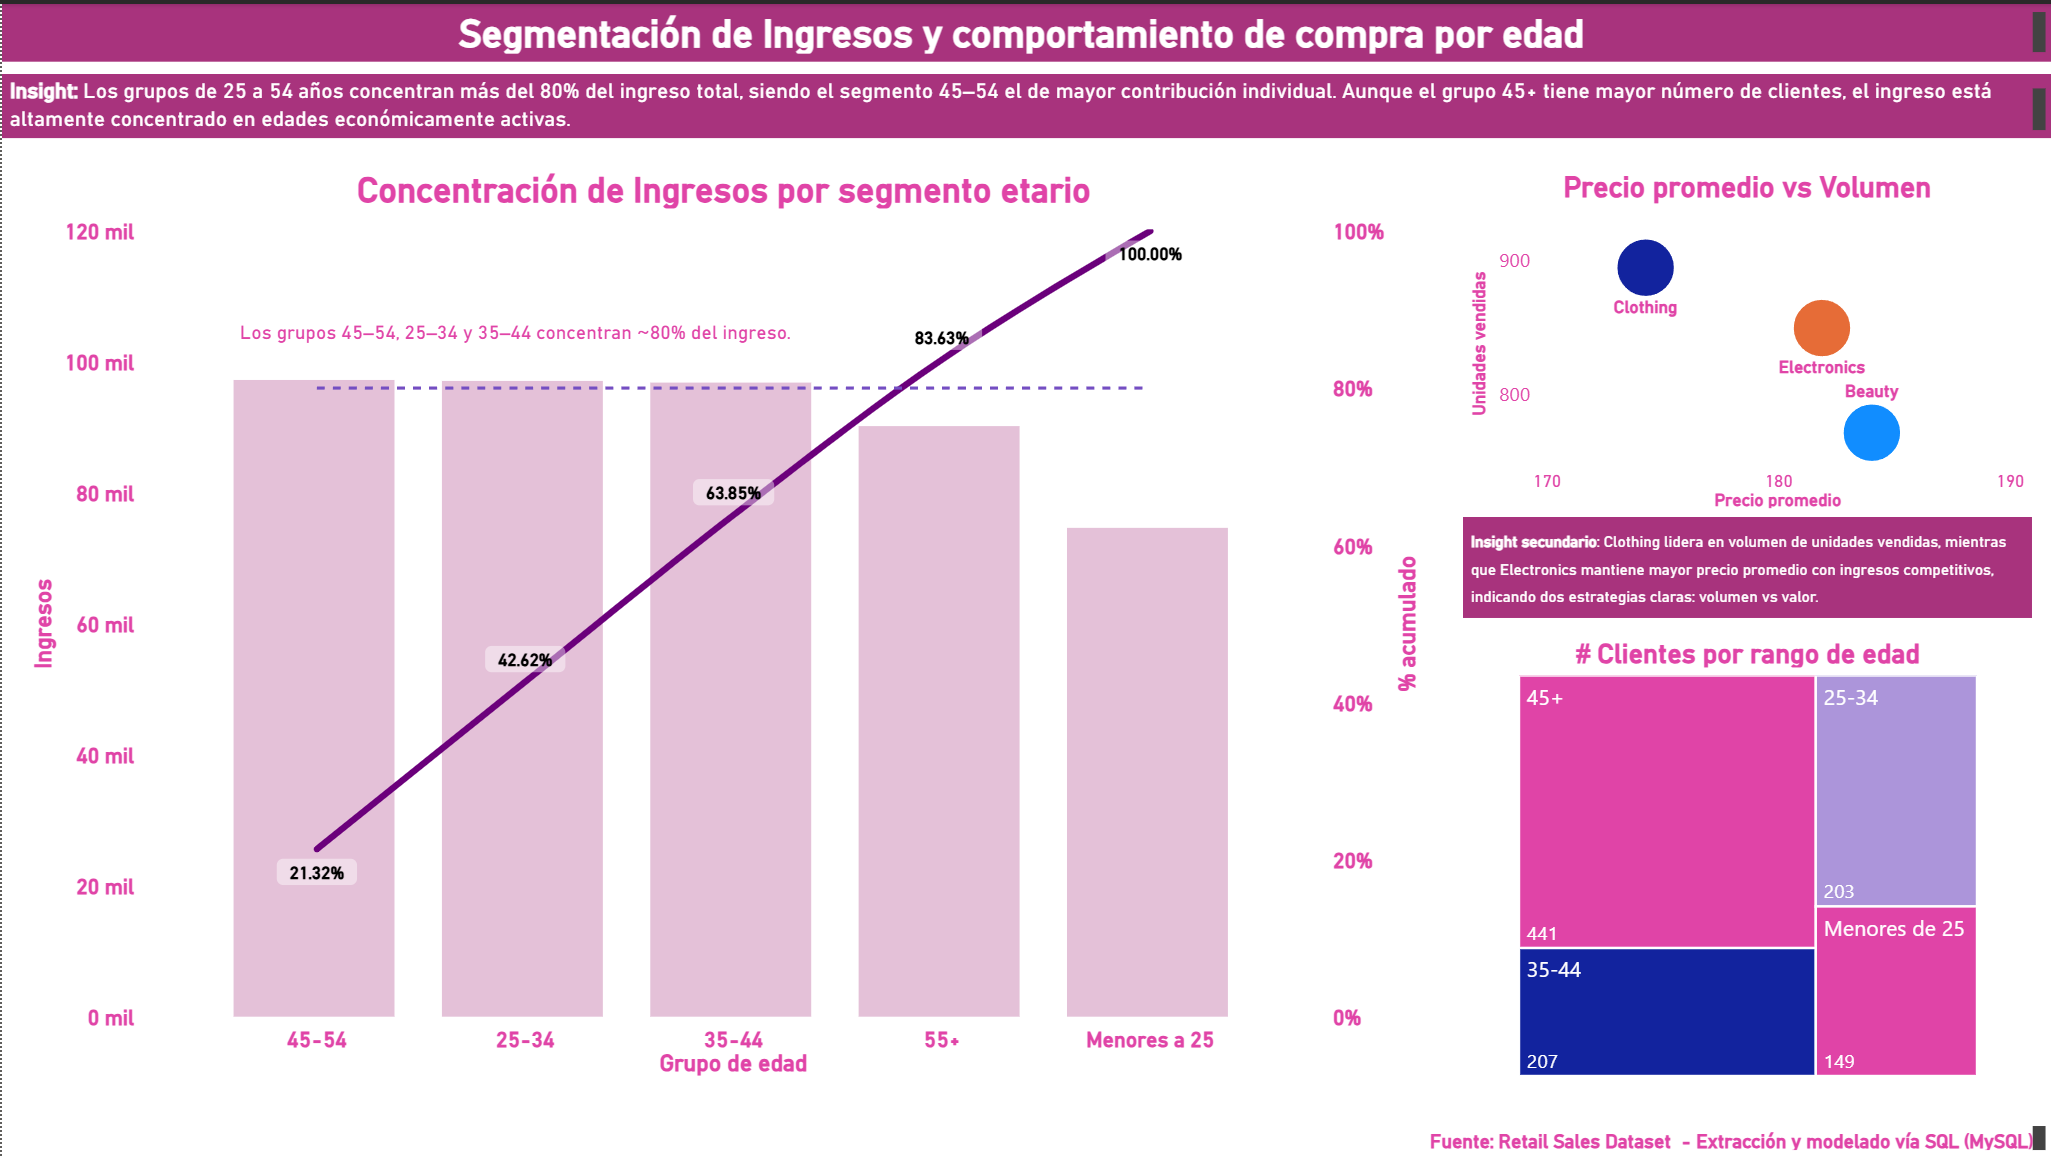

Layout of this report page (visuals, bound fields, positions):
{"tool":"powerbi","page":{"name":"Segmentación de Ingresos","canvas":[1280,720],"ordinal":1},"visuals":[{"type":"lineClusteredColumnComboChart","title":"Concentración de Ingresos por segmento etario","fields":{"Category":["Pareto edad.age_group"],"Y2":["Sum(Pareto edad.cum_pct)","select"],"Y":["Sum(Pareto edad.revenue)"]},"box":[12.5,103.6,876,570.3],"z":0},{"type":"textbox","box":[143.5,190.3,360,28.7],"z":1000},{"type":"treemap","title":"# Clientes por rango de edad","fields":{"Group":["retail_sales cohortes_edad.age_group"],"Values":["Sum(retail_sales cohortes_edad.customers)"]},"box":[941.5,394.9,295.7,278.9],"z":2000},{"type":"scatterChart","title":"Precio promedio vs Volumen","fields":{"X":["Sum(retail_sales promediovsvolumen.avg_price)"],"Y":["Sum(retail_sales promediovsvolumen.units_sold)"],"Size":["Count(retail_sales promediovsvolumen.product_category)"],"Series":["retail_sales promediovsvolumen.product_category"]},"box":[911.5,103.6,355,216.5],"z":3000},{"type":"textbox","box":[0,695,1280.3,25],"z":4000},{"type":"textbox","box":[0,0,1280.3,35.6],"z":5000},{"type":"textbox","box":[0,43.7,1280.3,39.9],"z":6000},{"type":"textbox","box":[911.5,320.1,355,63],"z":7000}]}

Visuals, with their boxes in screenshot pixels (x1, y1, x2, y2), scaled from the page's 1280x720 canvas onto the 2051x1158 screenshot:
"Concentración de Ingresos por segmento etario" lineClusteredColumnComboChart: {"x1": 20, "y1": 167, "x2": 1424, "y2": 1084}
textbox: {"x1": 230, "y1": 306, "x2": 807, "y2": 352}
"# Clientes por rango de edad" treemap: {"x1": 1509, "y1": 635, "x2": 1982, "y2": 1084}
"Precio promedio vs Volumen" scatterChart: {"x1": 1461, "y1": 167, "x2": 2029, "y2": 515}
textbox: {"x1": 0, "y1": 1118, "x2": 2050, "y2": 1157}
textbox: {"x1": 0, "y1": 0, "x2": 2050, "y2": 57}
textbox: {"x1": 0, "y1": 70, "x2": 2050, "y2": 134}
textbox: {"x1": 1461, "y1": 515, "x2": 2029, "y2": 616}
